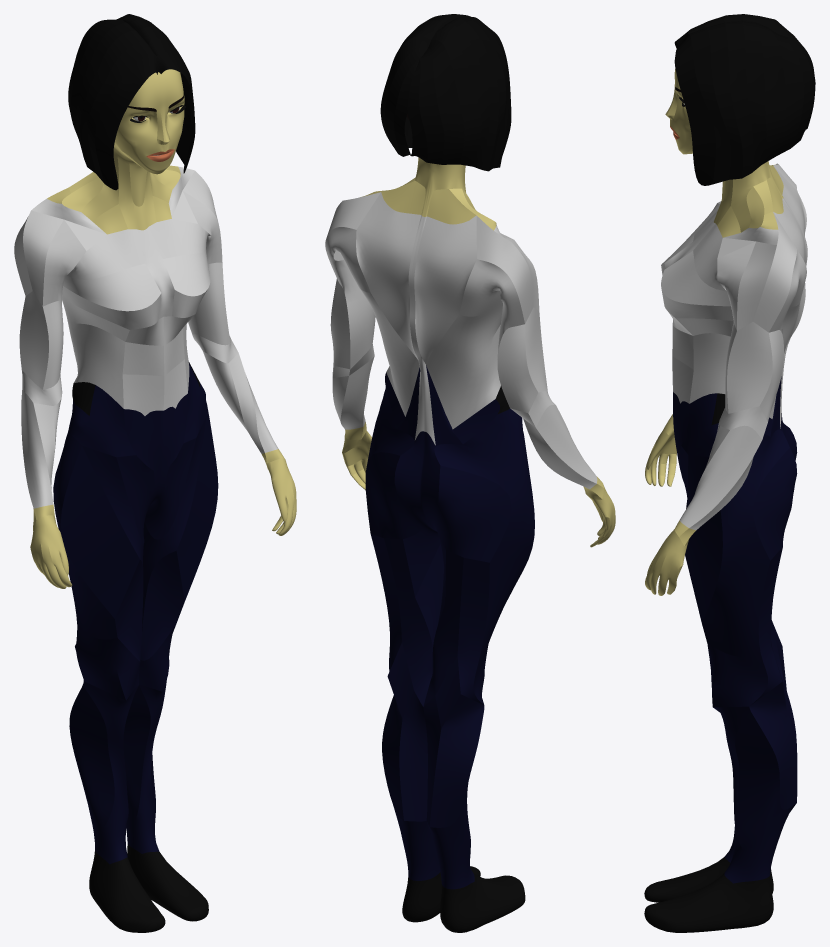
Rendered from avatar3.obj.
3 views of the same model, side by side, from view 1: azimuth 30°, elevation 25°; view 2: azimuth 150°, elevation 25°; view 3: azimuth 270°, elevation 25° (orthographic). The views are drawn at different scales.
Parts seen in each view (by area): view 1: Piel.006; view 2: Piel.006; view 3: Piel.006.
Boxes of the visible parts, x1,y1,x2,y2 form: Piel.006: (14, 14, 296, 932); Piel.006: (325, 14, 615, 932); Piel.006: (644, 14, 815, 932).
Bounding box in the file's own units: 1.02 × 3.26 × 0.5661.
